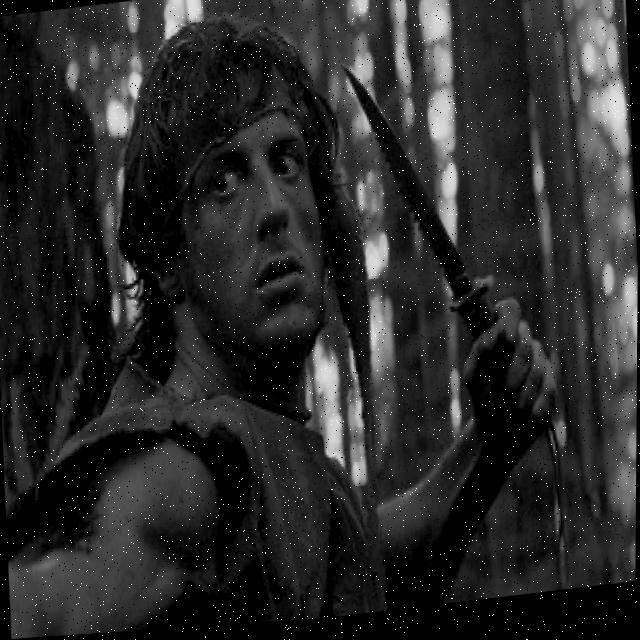knife: (332, 48, 497, 352)
